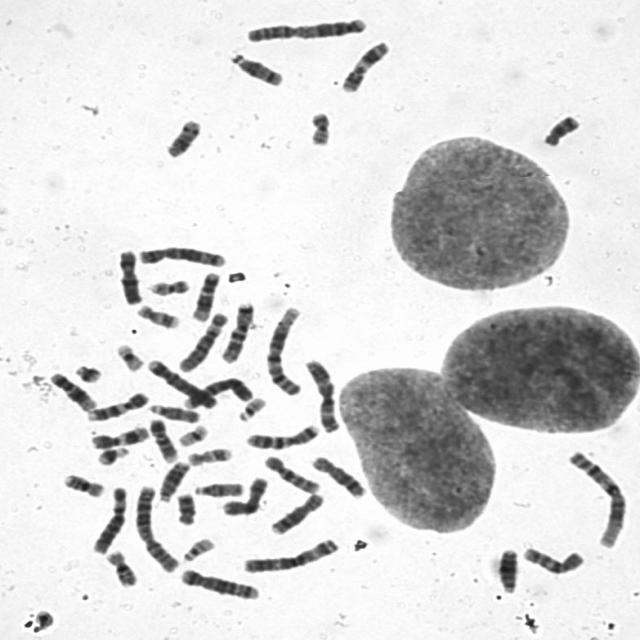A1: (562, 444, 630, 550), (259, 301, 306, 397)
A2: (128, 479, 182, 574), (240, 11, 370, 44)
A3: (236, 532, 343, 574), (298, 353, 342, 433)
B4: (142, 353, 220, 410), (177, 372, 255, 409)
B5: (174, 563, 262, 601), (132, 241, 228, 268)
C10: (258, 450, 323, 495), (516, 541, 588, 576)
C11: (335, 35, 392, 94), (84, 420, 151, 450)
C12: (44, 367, 98, 412), (186, 267, 222, 322)
C6: (172, 306, 230, 373), (85, 480, 130, 555)
C7: (240, 418, 322, 451), (216, 297, 256, 364)
C8: (306, 450, 368, 499), (265, 488, 327, 536)
C9: (81, 386, 151, 422), (143, 413, 181, 463)
D13: (151, 456, 192, 503), (493, 542, 521, 594)
D14: (224, 46, 286, 88), (160, 112, 204, 158)
D15: (144, 398, 203, 423), (188, 477, 246, 498)
E16: (100, 545, 140, 588), (57, 468, 107, 499)
E17: (131, 299, 182, 330), (181, 442, 234, 466)
E18: (536, 108, 583, 148), (170, 488, 199, 526)
F19: (110, 337, 146, 373), (172, 419, 211, 447)
F20: (302, 105, 334, 147), (143, 273, 192, 297)
G21: (91, 441, 131, 466), (68, 358, 105, 384)
G22: (176, 532, 218, 562), (232, 392, 268, 422)
X: (216, 471, 270, 516), (112, 244, 145, 306)
